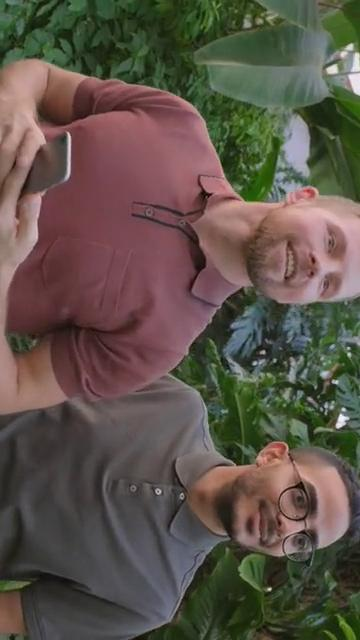phone: (15, 128, 75, 201)
